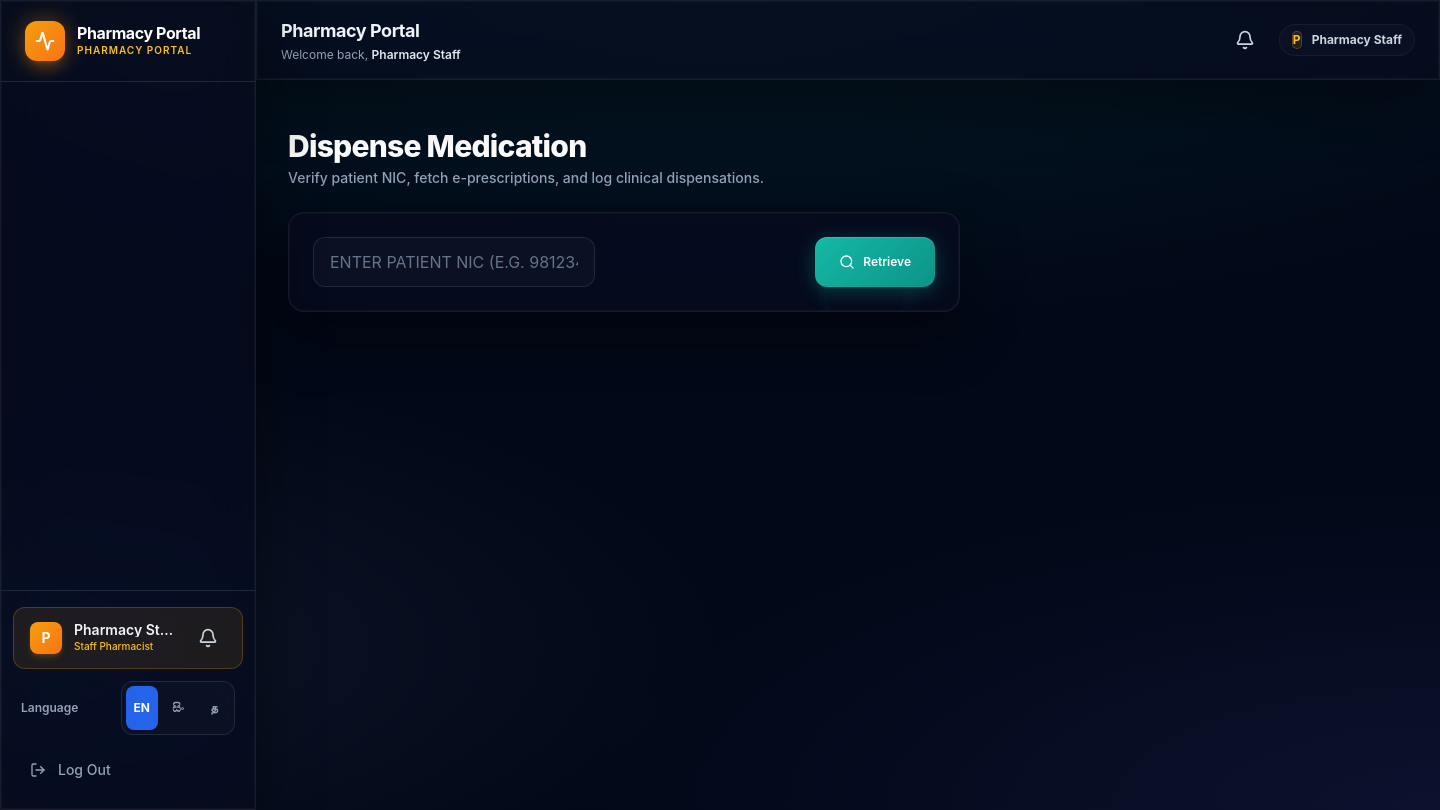
Test: changing NIC immediately removes the previous patient and prescriptions
The width and height of the screenshot is (1440, 810).
Type "QA-ONE" into the field with placeholder "Enter Patient NIC (e.g. 981234567V)".
click(454, 262); type("QA-ONE")  # box [313,237,595,287]
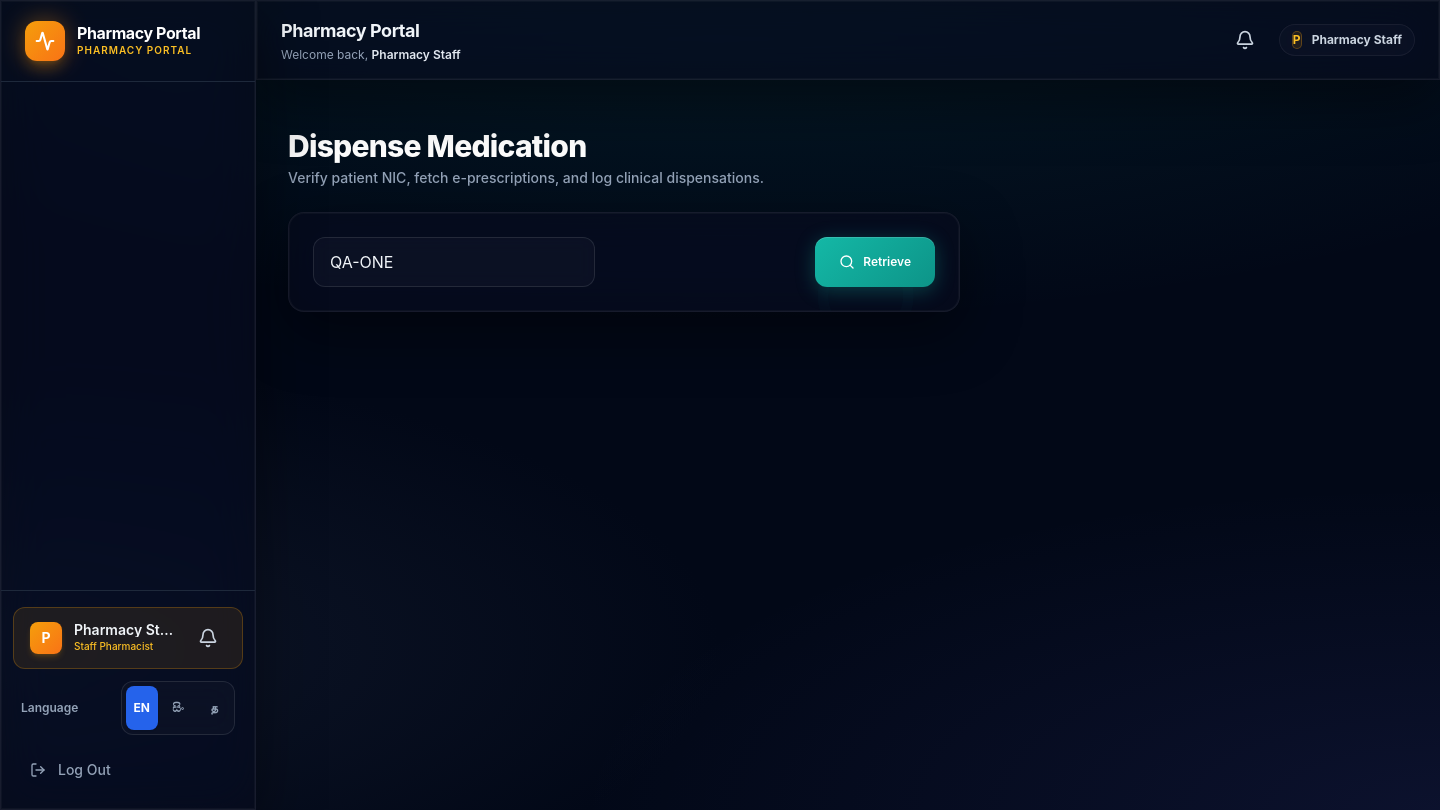
Click the button "Retrieve".
click(875, 262)  # box [815,237,935,287]
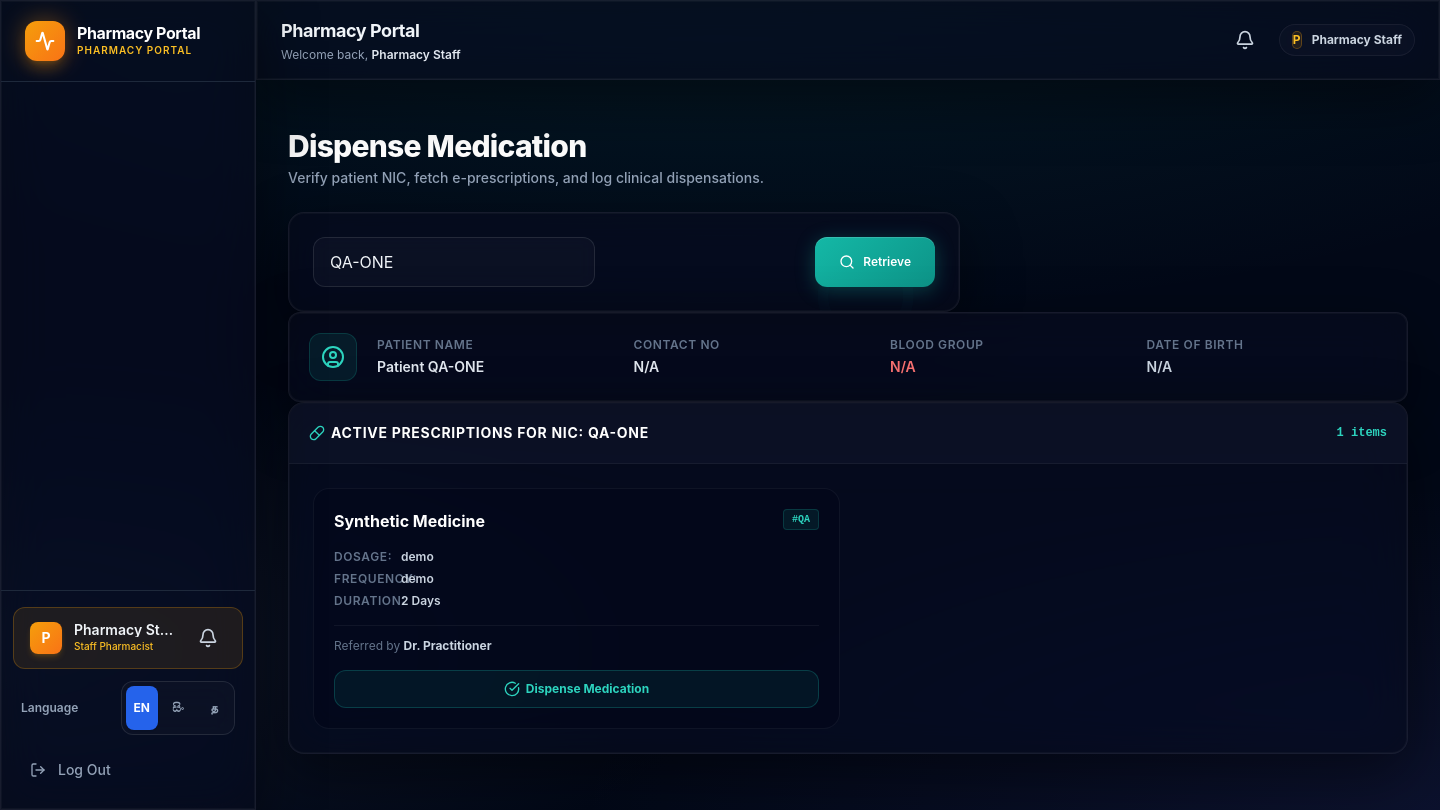
Check: the text "Patient QA-ONE" is shown, box [377,358,484,375]
Replace the text in the field named "Patient NIC" with "QA-TWO" at (454, 262), box [313,237,595,287]
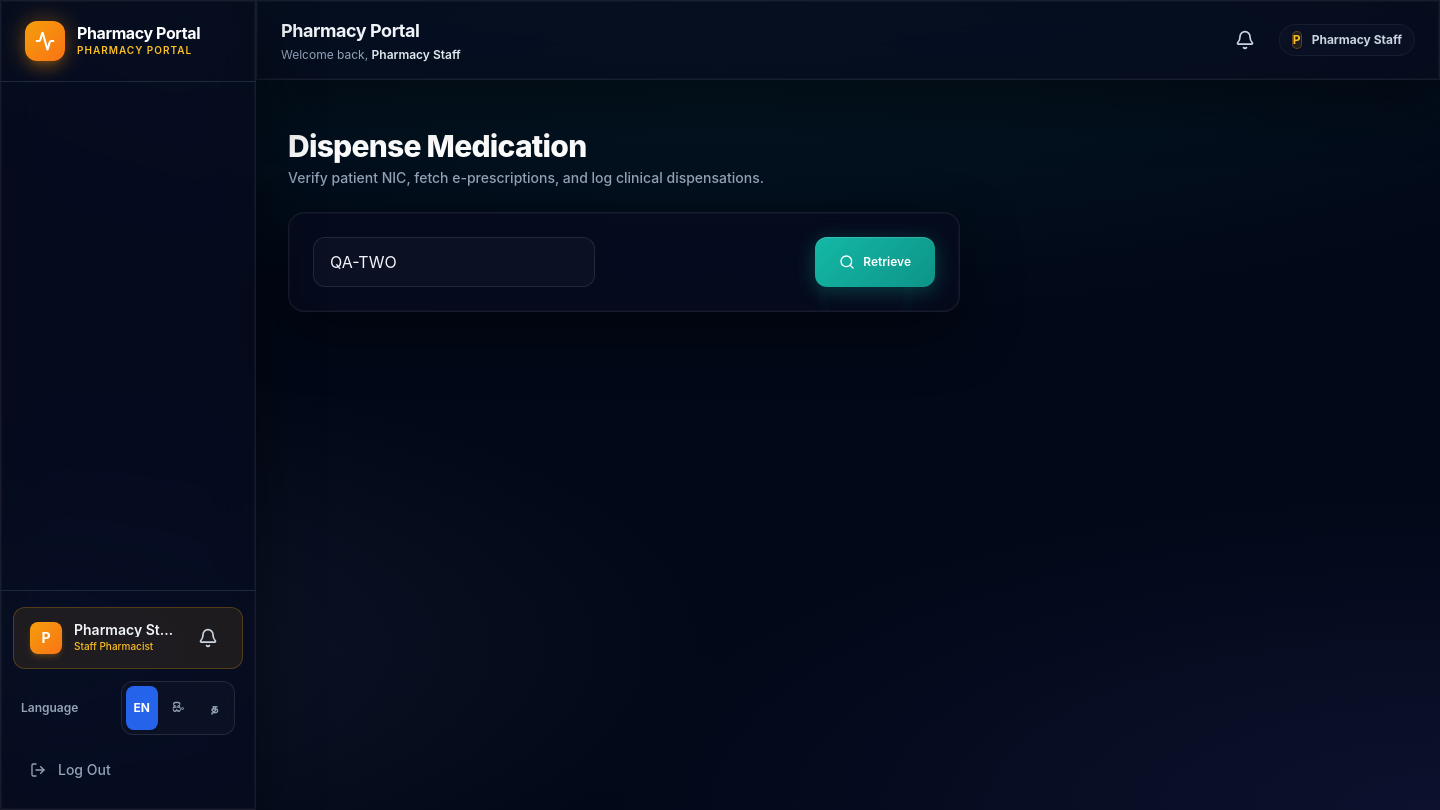
Check: the text "Patient QA-ONE" is gone
Check: the heading "Synthetic Medicine" is gone
